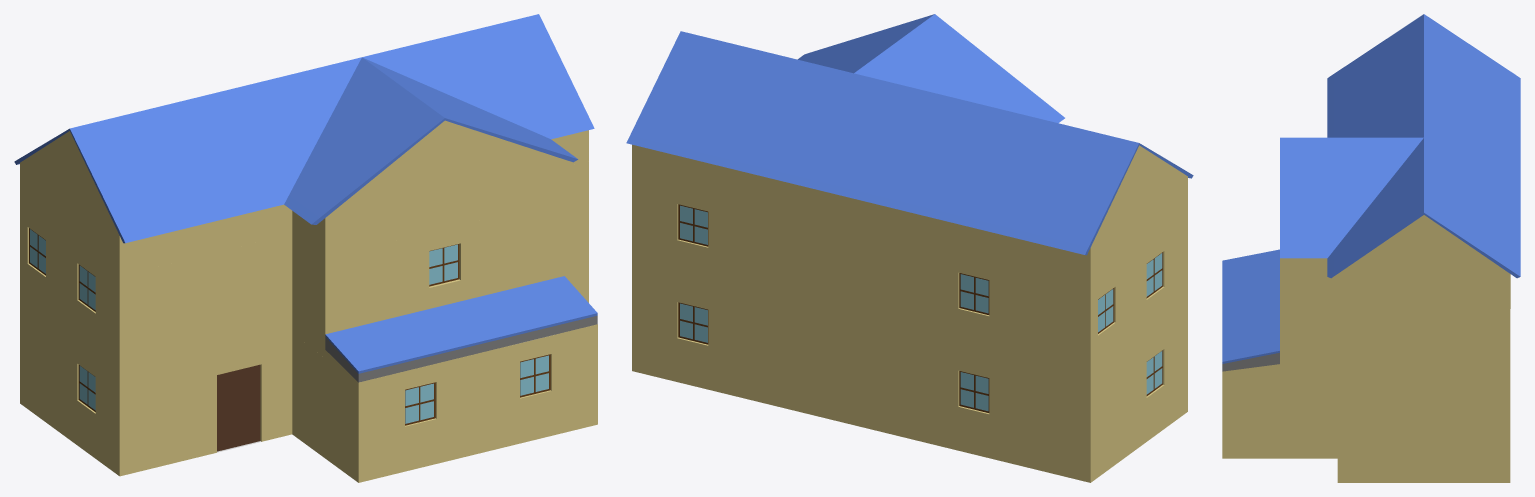
File: House1.fbx
3 renders of one model, left to right at view 1: azimuth 30°, elevation 25°; view 2: azimuth 150°, elevation 25°; view 3: azimuth 270°, elevation 25°, orthographic. The views are drawn at different scales.
Visible parts, largest first — view 1: Building1Roof, WallHalf.024, WallWithWindow.002, WallWithWindow.003, WallWithDoor.001, WallWithWindow.007, WallHalf.004, WallWithWindow.001, WallWithWindow.006, WallHalf.002, WallHalf.012, WallHalf.015 (+16 smaller); view 2: Building1Roof, WallHalf.010, WallHalf.020, WallWithWindow.005, WallWithWindow.004, WallWithWindow.009, WallWithWindow.010, WallWithWindow.001, WallWithWindow.006, WallHalf.011, WallHalf.021, WallHalf.009 (+10 smaller); view 3: Building1Roof, WallHalf.005, WallHalf.007, WallHalf.017, WallHalf.008, WallHalf.018, WallHalf.014, SideRoof.004, SideRoof.003, SideRoof.001, SideRoof.002.
Part boxes in pixels (x1,y1,x2,y2): Building1Roof: (14,14,594,275); WallHalf.024: (181,234,292,360); WallWithWindow.002: (363,353,478,481); WallWithWindow.003: (478,325,593,453); WallWithDoor.001: (181,334,292,460); WallWithWindow.007: (387,215,502,318); WallHalf.004: (292,334,363,482); WallWithWindow.001: (53,328,124,476); WallWithWindow.006: (53,227,124,375); WallHalf.002: (124,361,181,475); WallHalf.012: (124,261,181,374); WallHalf.015: (502,201,559,290); Building1Roof: (626,14,1193,286); WallHalf.010: (749,301,861,426); WallHalf.020: (749,203,861,328); WallWithWindow.005: (636,274,748,399); WallWithWindow.004: (917,343,1029,467); WallWithWindow.009: (917,245,1029,369); WallWithWindow.010: (636,176,748,301); WallWithWindow.001: (1123,314,1187,458); WallWithWindow.006: (1123,216,1187,360); WallHalf.011: (861,329,917,440); WallHalf.021: (861,231,917,342); WallHalf.009: (1030,370,1085,481); Building1Roof: (1280,14,1520,308); WallHalf.005: (1222,371,1337,458); WallHalf.007: (1337,396,1452,482); WallHalf.017: (1337,309,1452,395); WallHalf.008: (1452,396,1510,482); WallHalf.018: (1452,309,1510,395); WallHalf.014: (1280,284,1337,371); SideRoof.004: (1222,325,1279,371); SideRoof.003: (1222,300,1279,336); SideRoof.001: (1222,249,1279,285); SideRoof.002: (1222,275,1279,311).
Size of the model in its own units: 1224 by 776 by 777.
